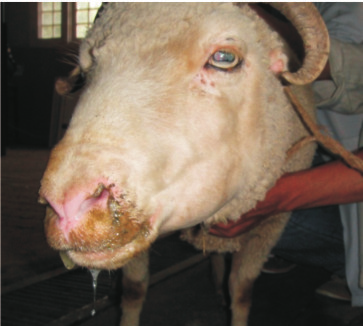ppr: (35, 190, 138, 265)
